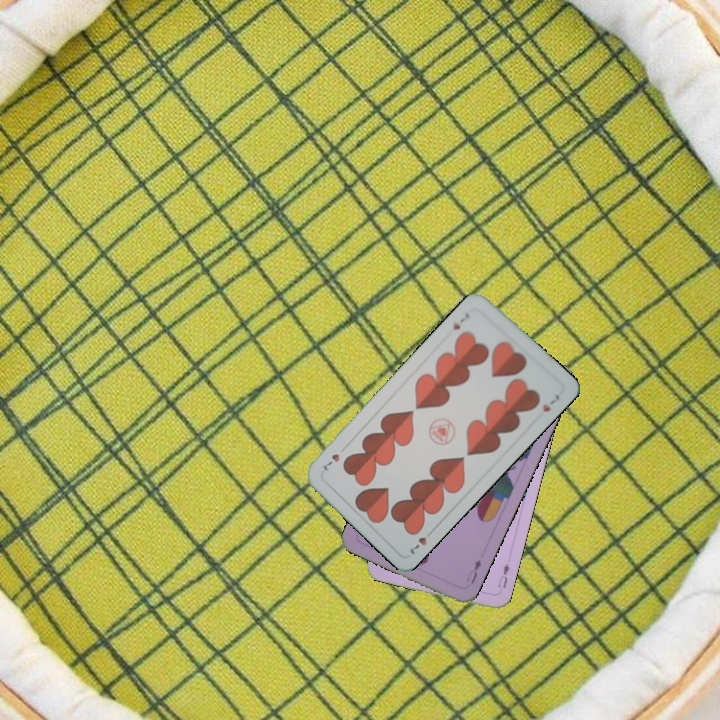EU: (462, 555, 484, 586), (494, 559, 512, 591)
H7: (405, 525, 437, 557), (449, 308, 472, 332)
